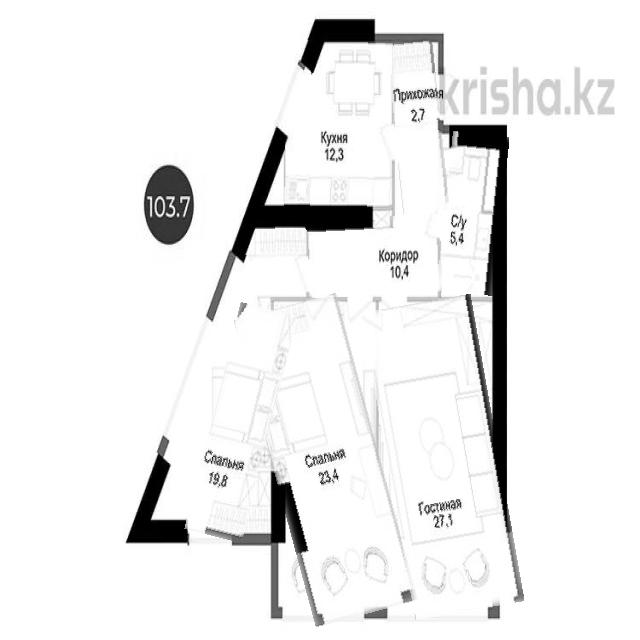bathroom: (440, 133, 505, 295)
hallway: (307, 215, 442, 297), (390, 38, 445, 213)
kitchen: (285, 41, 393, 220)
living_room: (253, 297, 399, 623), (374, 297, 511, 617), (198, 304, 283, 542)
other: (244, 218, 306, 292)
